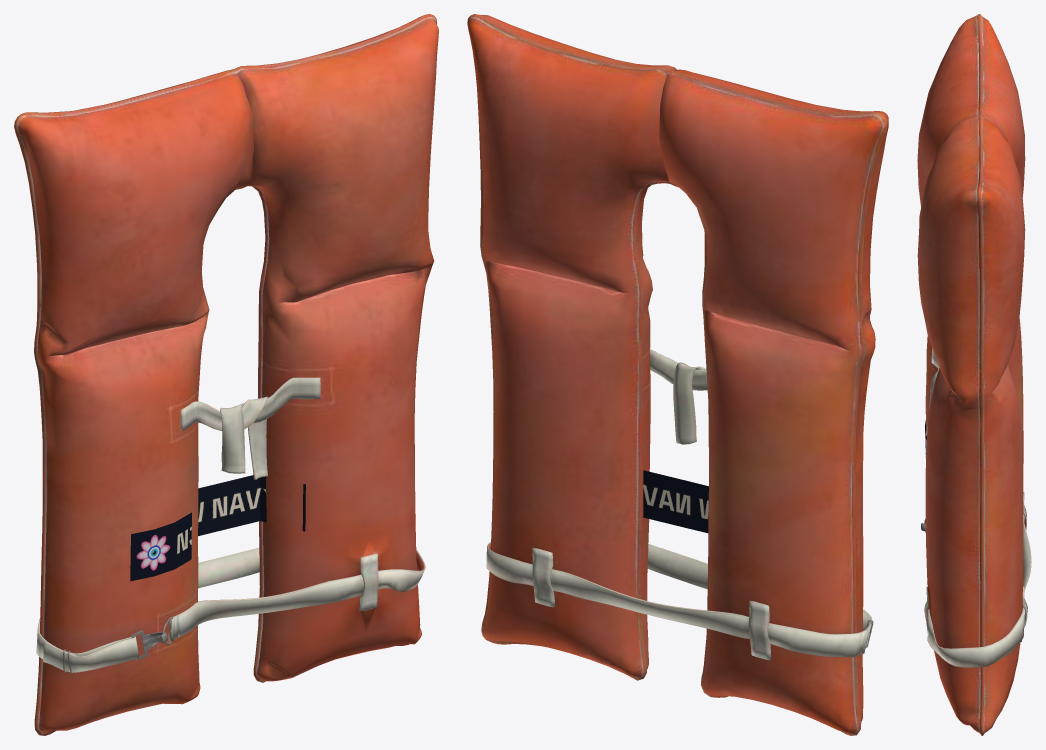
File: nyb_ontown_jacket.glb
The picture shows the model from 3 angles, left to right: view 1: azimuth 30°, elevation 25°; view 2: azimuth 150°, elevation 25°; view 3: azimuth 270°, elevation 25°; orthographic projection. The views are drawn at different scales.
Visible parts, largest first — view 1: life_jacket, stk_lbl_292a408227.png; view 2: life_jacket, stk_lbl_292a408227.png; view 3: life_jacket.
Part boxes in pixels (x1,y1,x2,y2): life_jacket: (14,14,438,735); stk_lbl_292a408227.png: (130,475,305,581); life_jacket: (467,14,888,735); stk_lbl_292a408227.png: (643,470,708,533); life_jacket: (917,14,1031,735).
Bounding box in the file's own units: 0.6956 × 0.9923 × 0.1842.
Materials: 2 (2 with a texture image).
